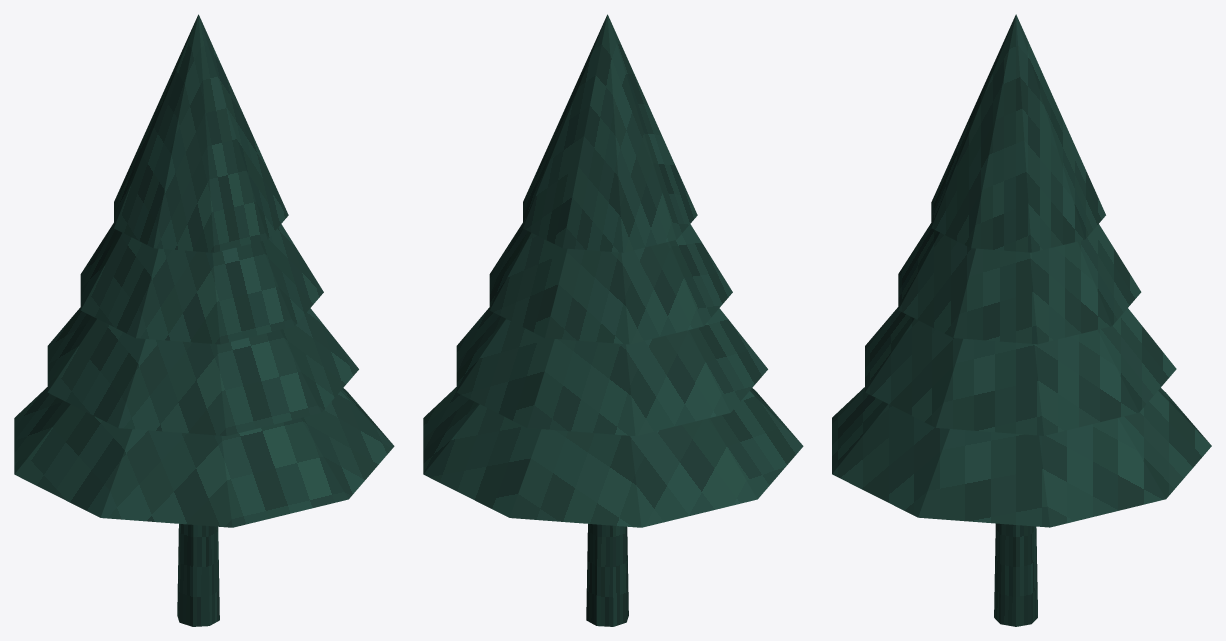
File: pine_60.glb
The picture shows the model from 3 angles, left to right: view 1: azimuth 30°, elevation 25°; view 2: azimuth 150°, elevation 25°; view 3: azimuth 270°, elevation 25°; orthographic projection.
Visible parts, largest first — view 1: Needles, Needles.001, Needles.003, Needles.002, Trunk; view 2: Needles, Needles.001, Needles.003, Needles.002, Trunk; view 3: Needles, Needles.001, Needles.003, Needles.002, Trunk.
Boxes of the visible parts, left/top/right/bottom form: Needles: left=14, top=387, right=394, bottom=527; Needles.001: left=47, top=307, right=358, bottom=435; Needles.003: left=114, top=14, right=288, bottom=252; Needles.002: left=80, top=223, right=323, bottom=344; Trunk: left=177, top=524, right=219, bottom=626; Needles: left=423, top=387, right=803, bottom=527; Needles.001: left=456, top=307, right=767, bottom=435; Needles.003: left=523, top=14, right=697, bottom=252; Needles.002: left=489, top=223, right=732, bottom=344; Trunk: left=586, top=524, right=628, bottom=626; Needles: left=832, top=387, right=1211, bottom=527; Needles.001: left=865, top=307, right=1176, bottom=435; Needles.003: left=931, top=14, right=1105, bottom=252; Needles.002: left=898, top=223, right=1141, bottom=344; Trunk: left=994, top=523, right=1037, bottom=626.
Bounding box in the file's own units: 3.5 × 6.04 × 3.44.
1 material, 1 textured.
